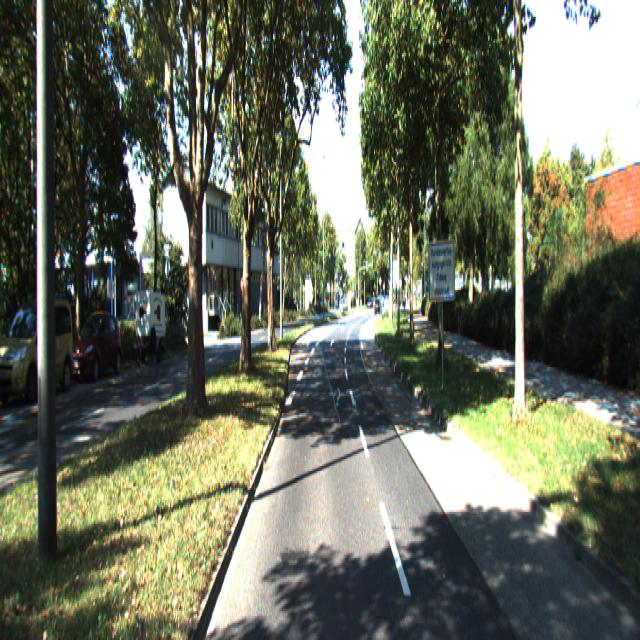Car: (0, 293, 77, 404), (71, 312, 122, 386)
DontCare: (368, 293, 382, 313)
Misc: (135, 286, 168, 365)
